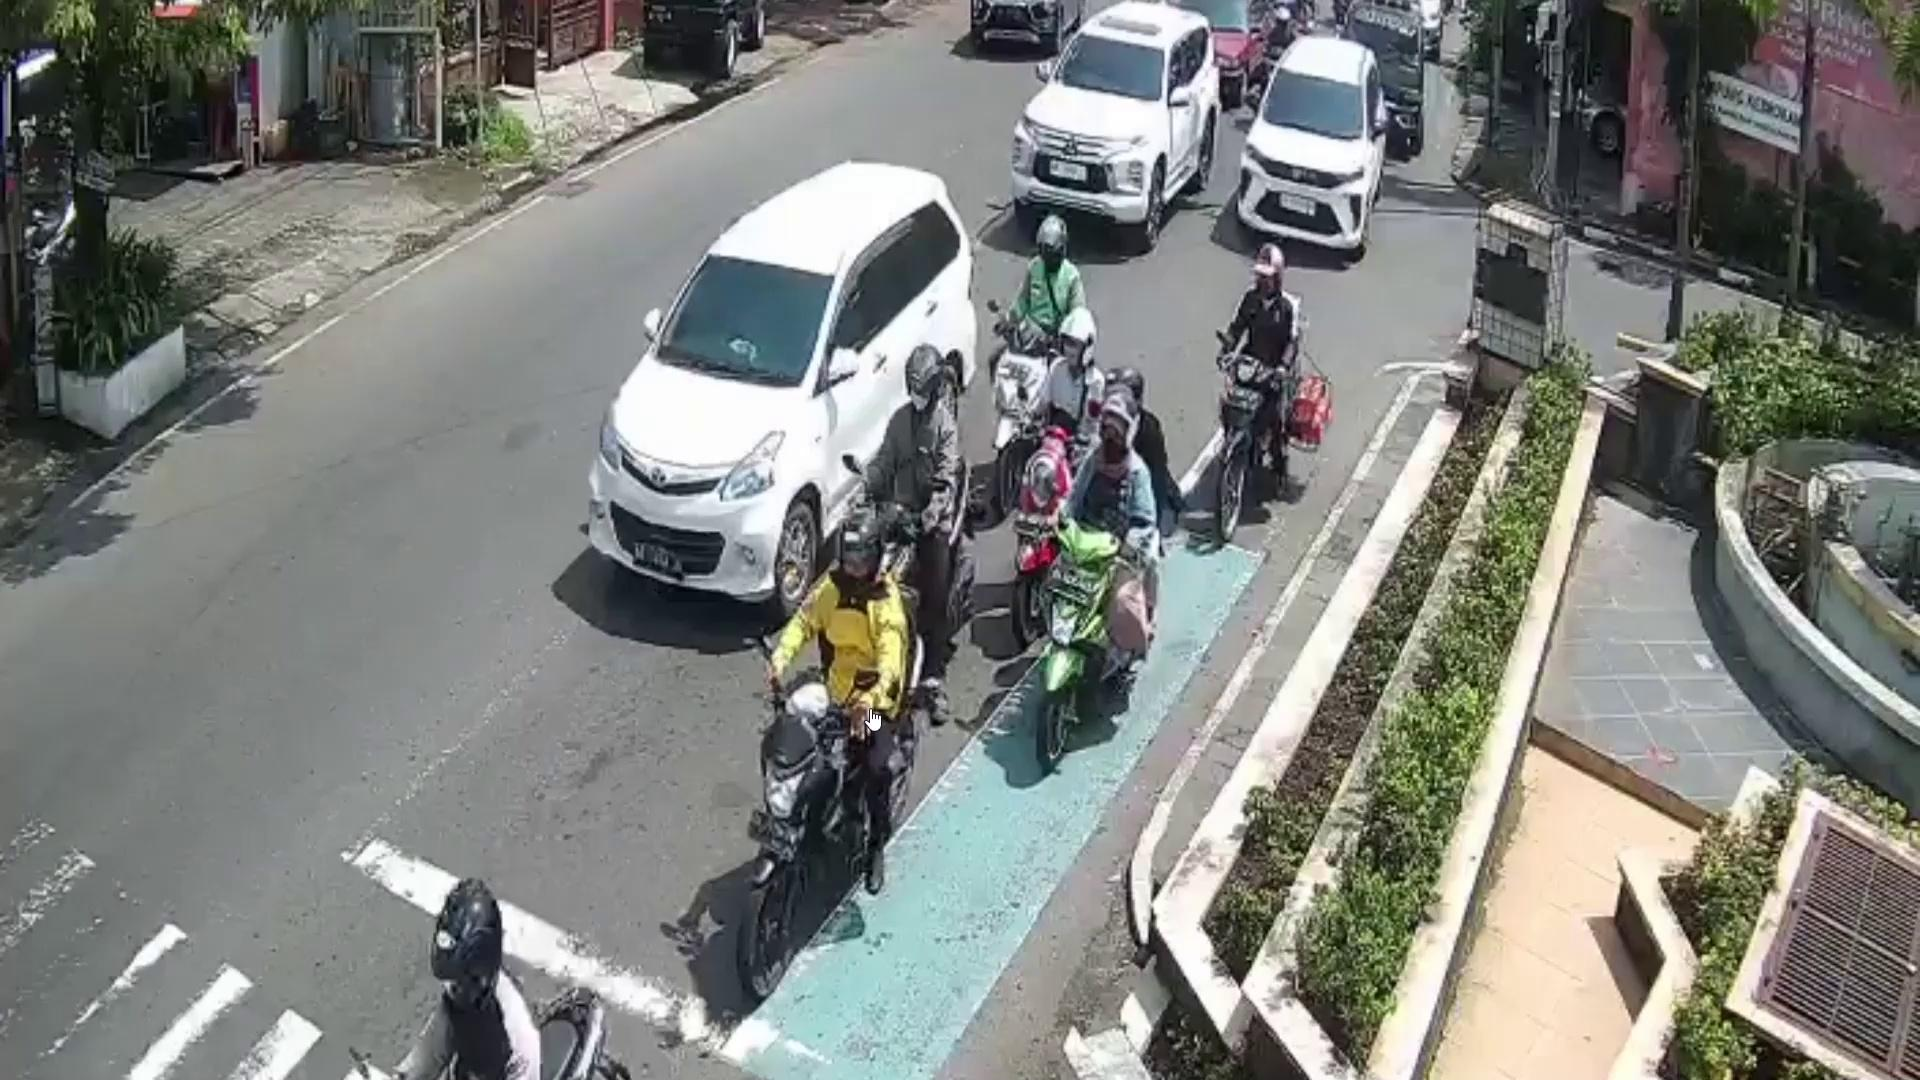car: (585, 160, 973, 615), (1010, 4, 1218, 248), (1230, 36, 1389, 258), (1345, 0, 1427, 164)
motorbike: (742, 625, 927, 998), (1035, 526, 1135, 770), (1009, 418, 1081, 651), (1218, 352, 1270, 542)
